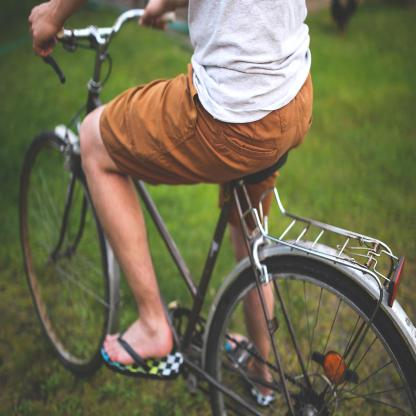jacket: (96, 53, 318, 200)
